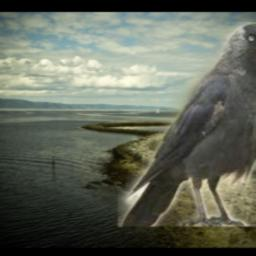Crow: (119, 22, 256, 227)
